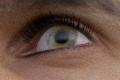eye: (47, 25, 77, 47)
